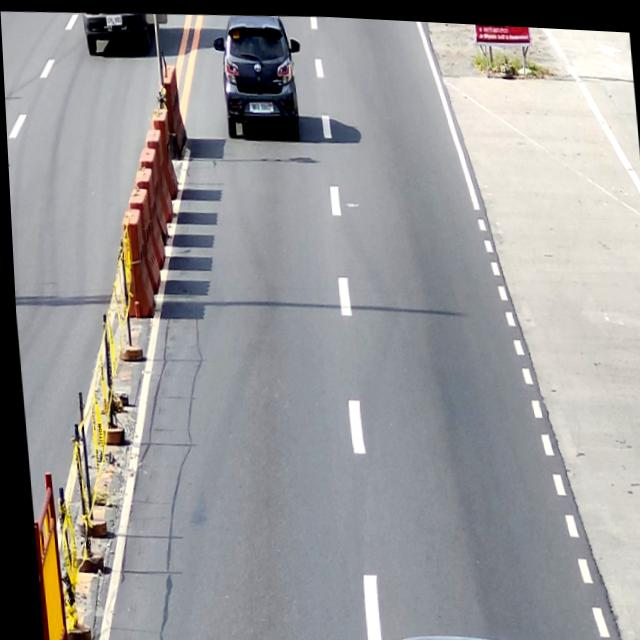Car: (210, 9, 306, 140), (81, 9, 154, 57), (378, 625, 522, 640)
License-Plate: (243, 93, 276, 114), (105, 11, 123, 27)
